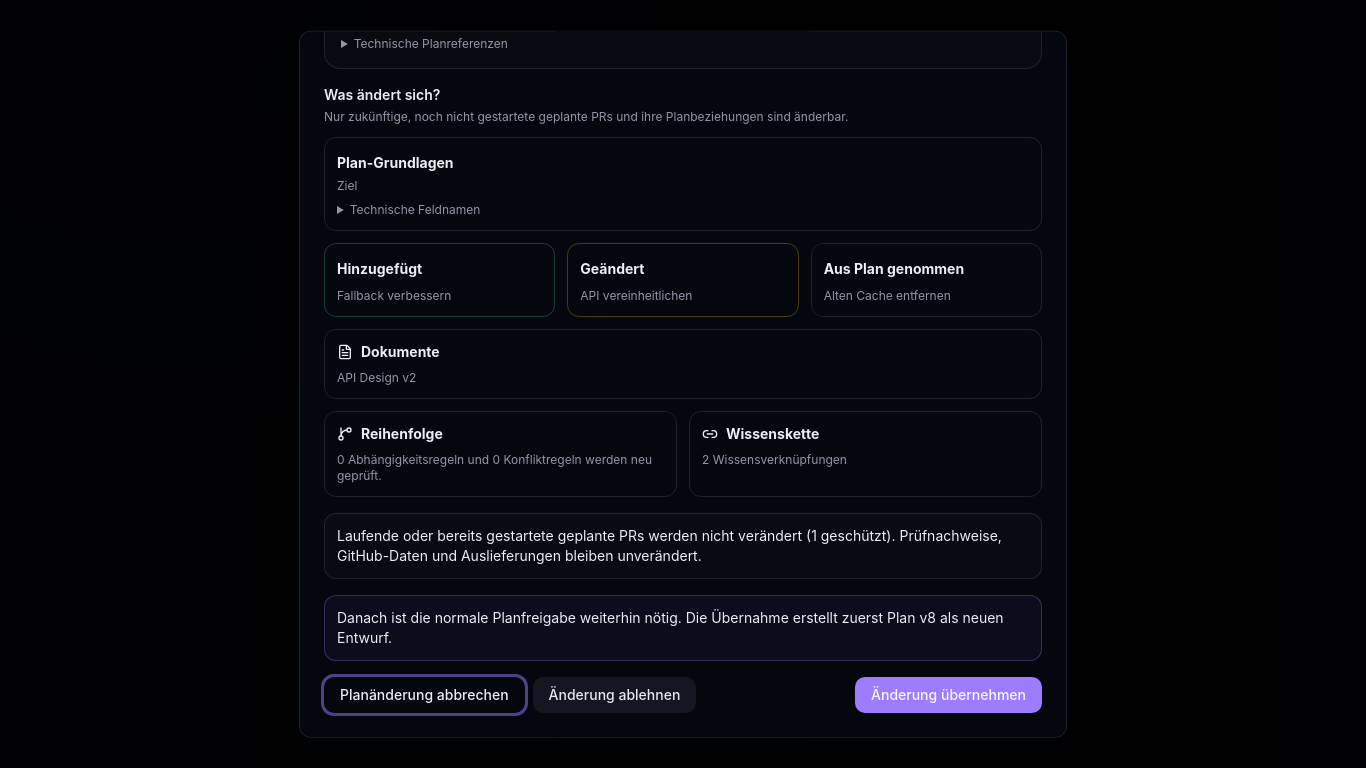
Test case: lehnt die Änderung ab und erklärt die Rückkehr zum vorherigen Planstatus
The width and height of the screenshot is (1366, 768).
(page scrolled)
Click the button "Änderung ablehnen": (614, 695) x1=533 y1=677 x2=696 y2=713
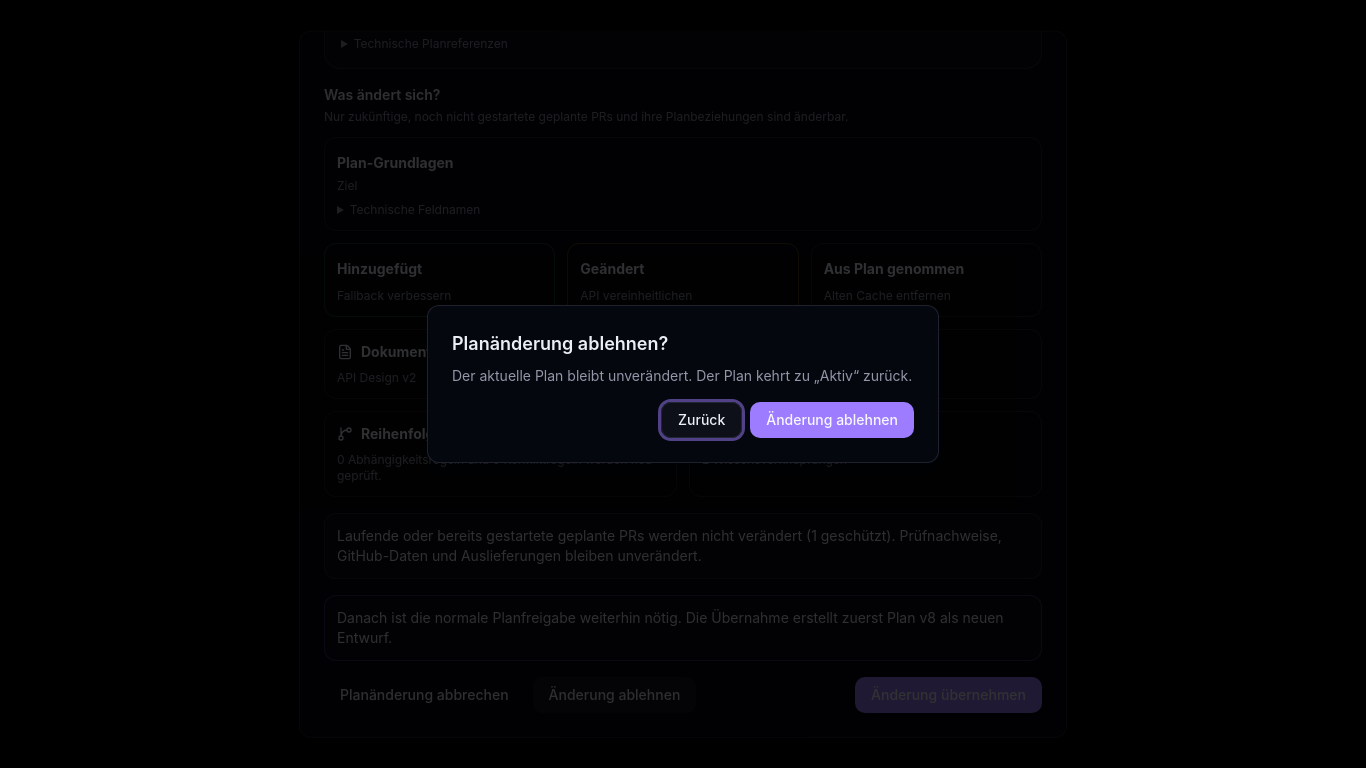
Expected: the dialog "Planänderung ablehnen?" is shown, x1=427 y1=305 x2=939 y2=463
Expected: the text "Plan kehrt zu „Aktiv“ zurück" is shown, x1=452 y1=367 x2=912 y2=384
Click the button "Änderung ablehnen": (832, 420) x1=750 y1=402 x2=914 y2=438
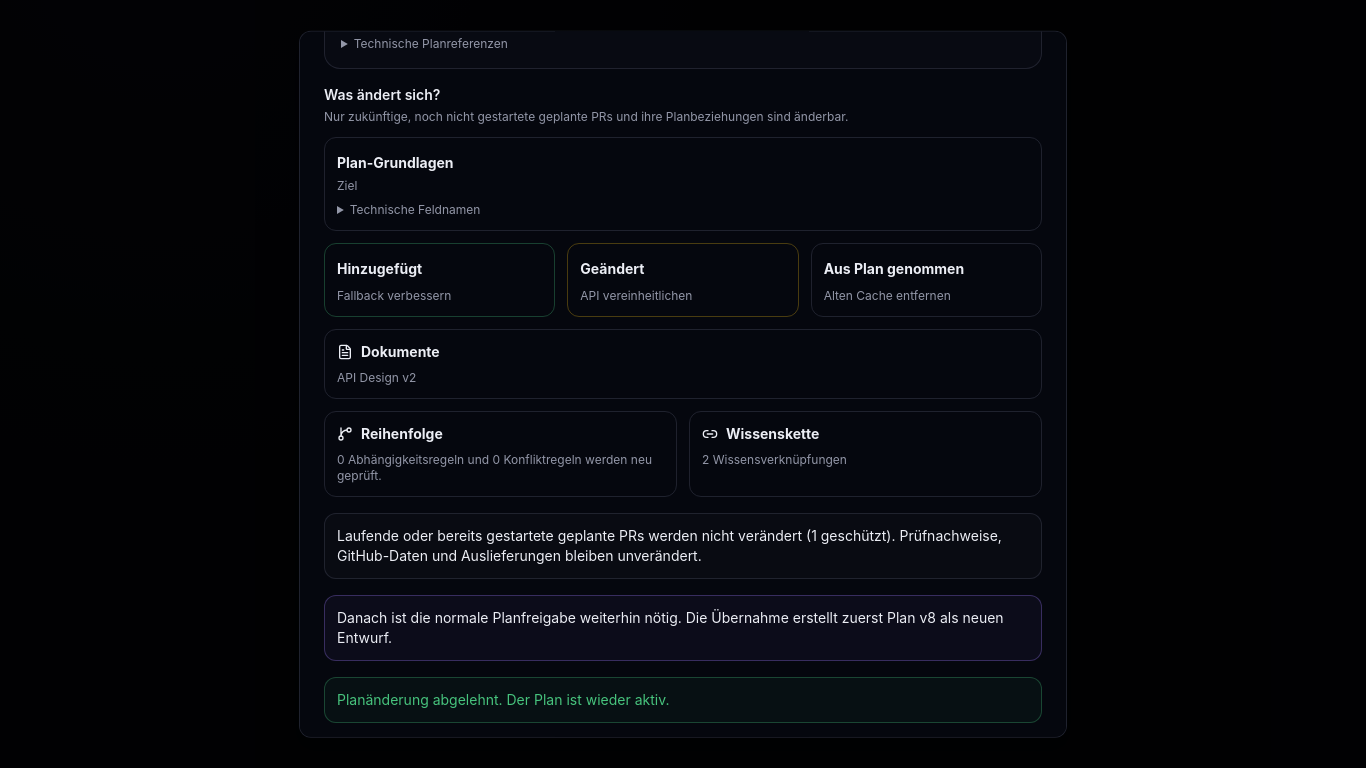
Expected: the text "Planänderung abgelehnt. Der Plan ist wieder aktiv." is shown, x1=324 y1=677 x2=1042 y2=723
